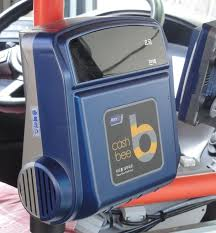terminal: (11, 11, 187, 224)
